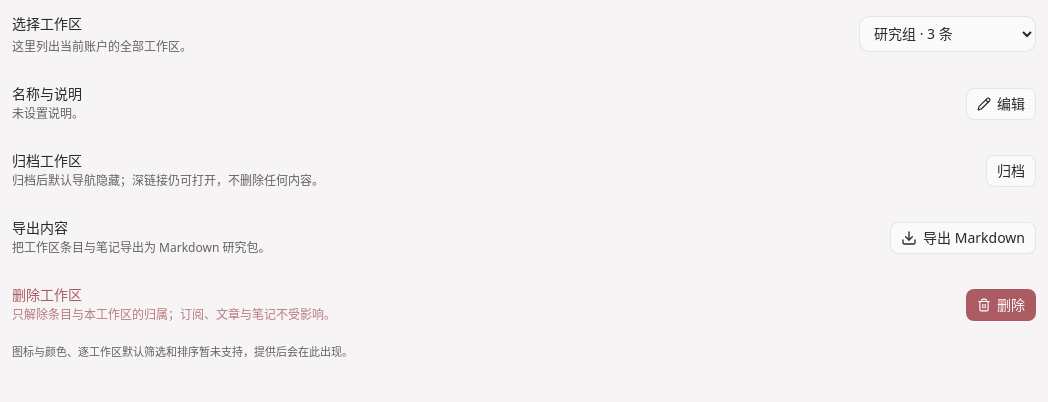
工作区设置面（R17） › 归档 → 归档端点 PATCH；说明含「不删除任何内容」
Click the button "归档" at x=1011, y=171, box [986,155,1036,187]
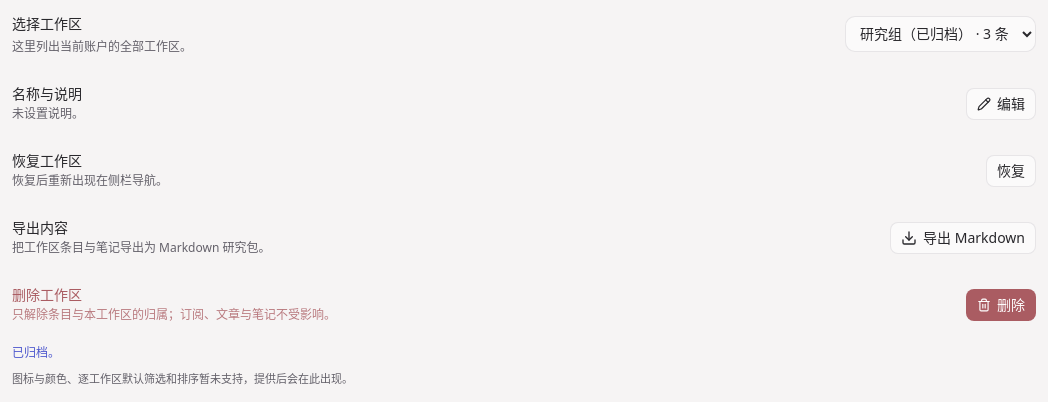
Expected: the text "已归档。" is shown, [12,344,60,360]
Expected: the text "恢复后重新出现在侧栏导航。" is shown, [12,171,168,190]
